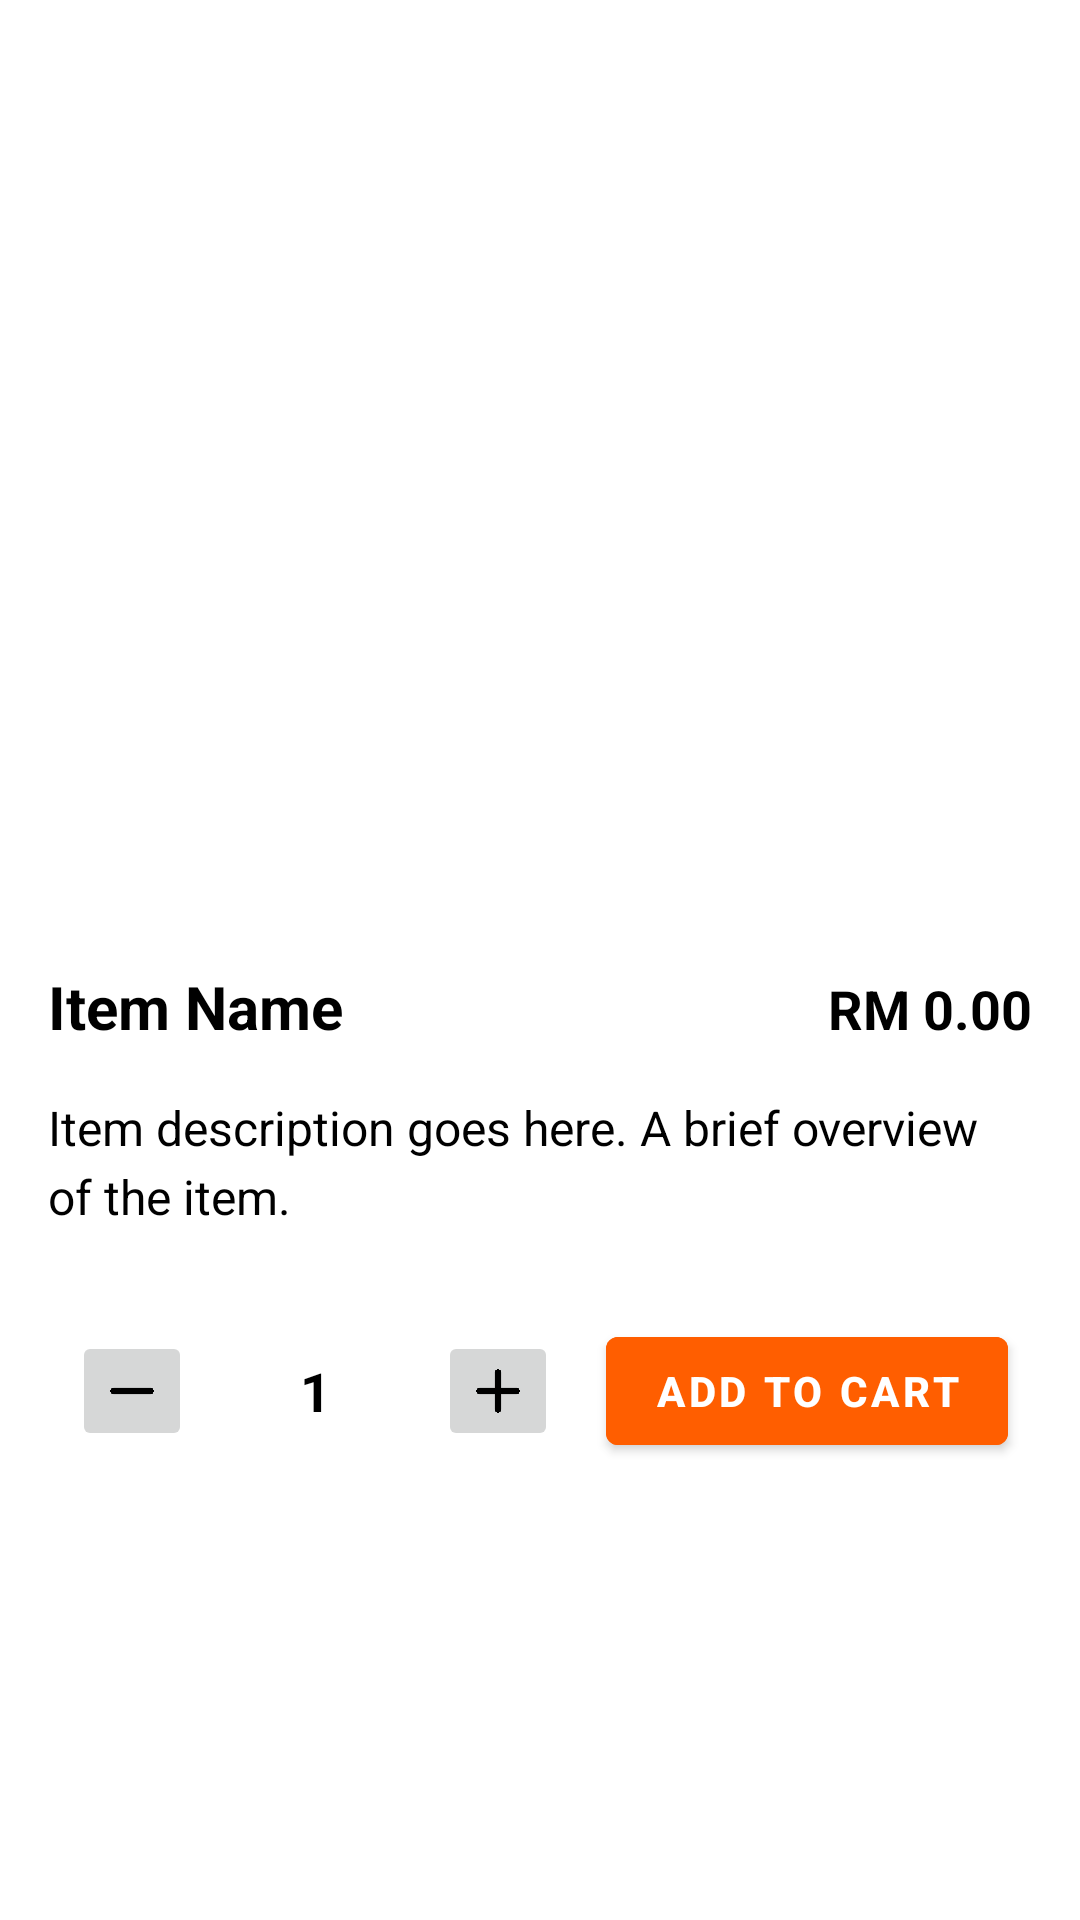

Where icons sit on this 1080w x 1920h app screen, as [x1,y1,x2,y2]:
iconminus: [84,1349,180,1433]
iconplus: [450,1349,546,1433]
